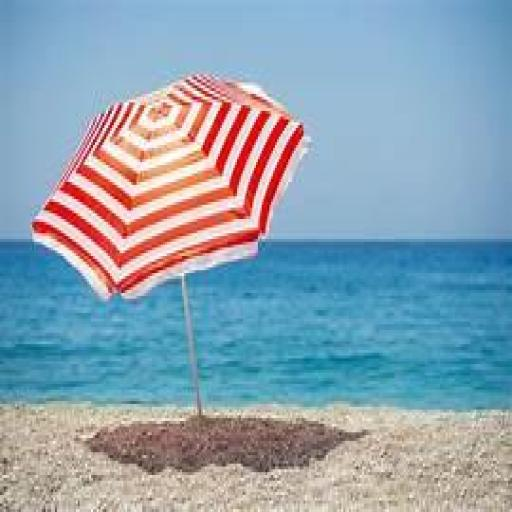guarda_chuva: (28, 68, 311, 415)
